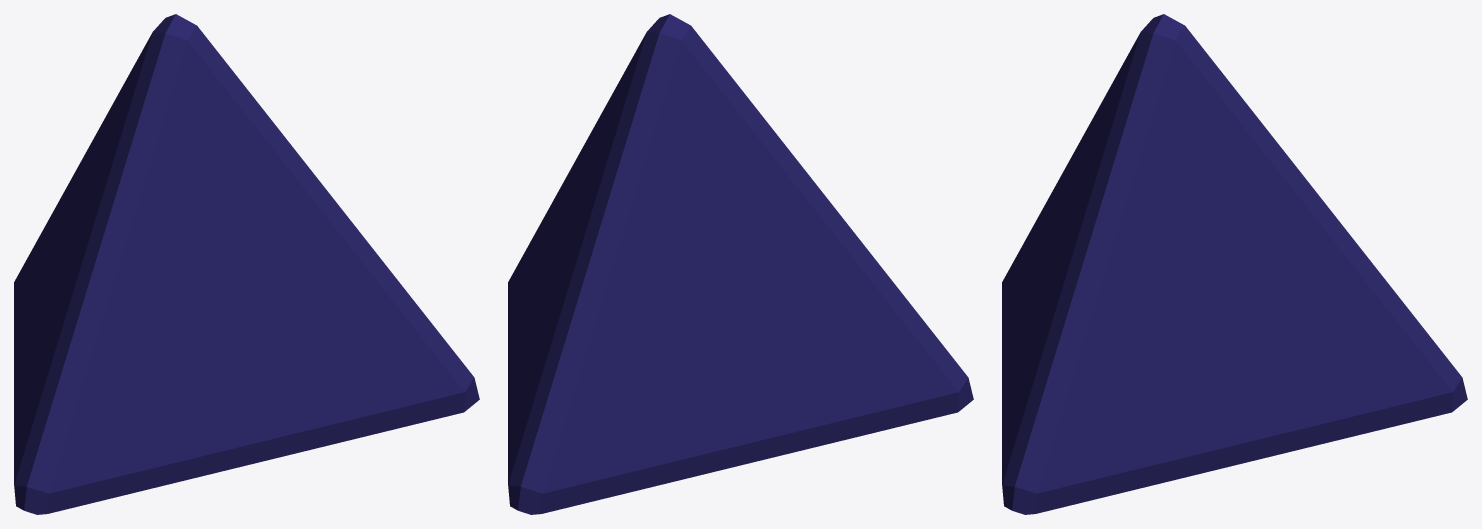
Rendered from dice4phy.glb.
3 renders of one model, left to right at view 1: azimuth 30°, elevation 25°; view 2: azimuth 150°, elevation 25°; view 3: azimuth 270°, elevation 25°, orthographic.
Visible parts, largest first — view 1: Cone; view 2: Cone; view 3: Cone.
Boxes of the visible parts, x1=… form: Cone: x1=14, y1=14, x2=479, y2=514; Cone: x1=508, y1=14, x2=973, y2=514; Cone: x1=1002, y1=14, x2=1467, y2=514.
Size of the model in its own units: 9.1 by 7.62 by 8.05.
